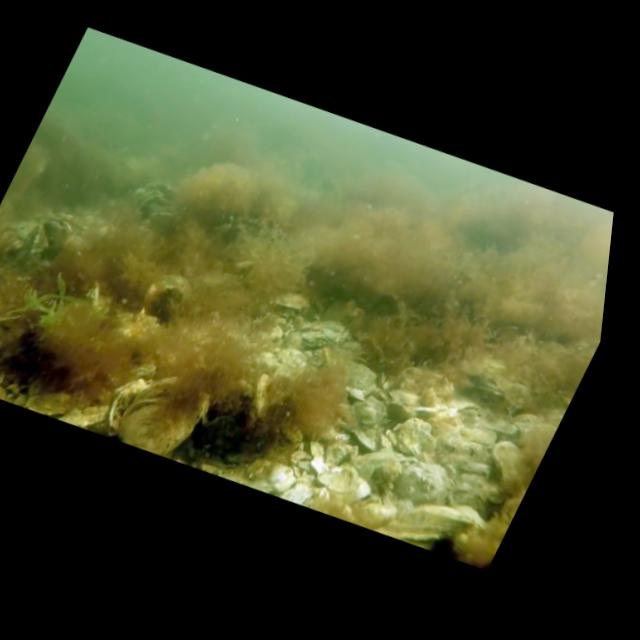Oyster-Indeterminate: (117, 373, 212, 457), (268, 291, 314, 314)
